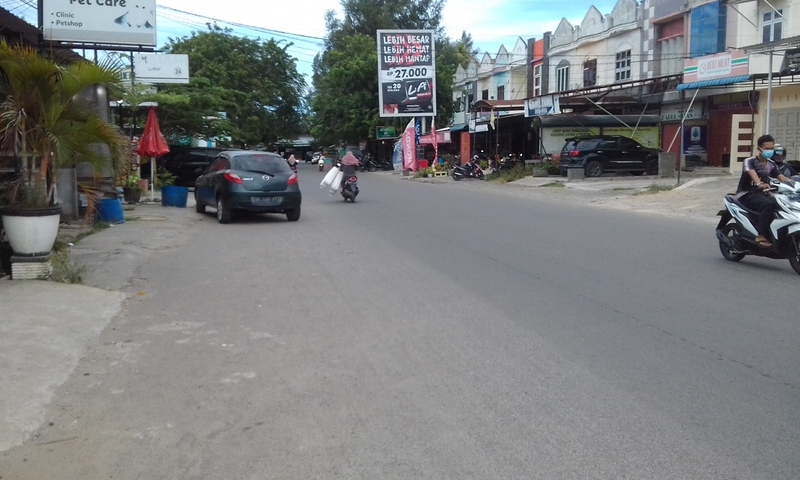car: (191, 146, 305, 229), (558, 133, 670, 179)
motorcycle: (715, 183, 800, 272), (338, 164, 362, 207)
